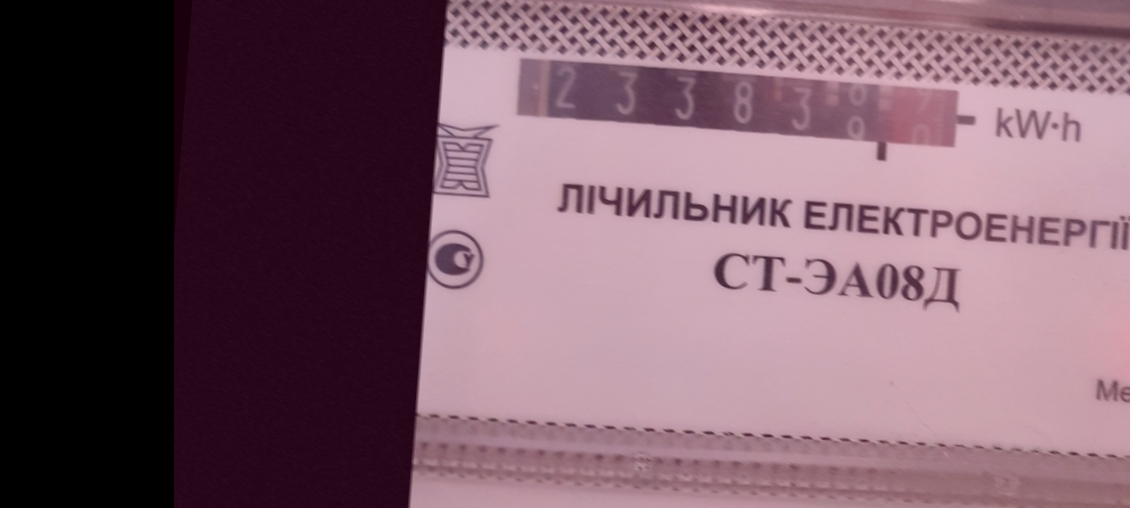0: (911, 122, 935, 150)
2: (554, 65, 582, 113)
3: (669, 74, 702, 125), (612, 68, 644, 119), (789, 85, 816, 133)
8: (729, 80, 759, 128), (847, 82, 872, 111)
9: (845, 114, 868, 145), (913, 86, 936, 117)
screen: (504, 48, 982, 173)
